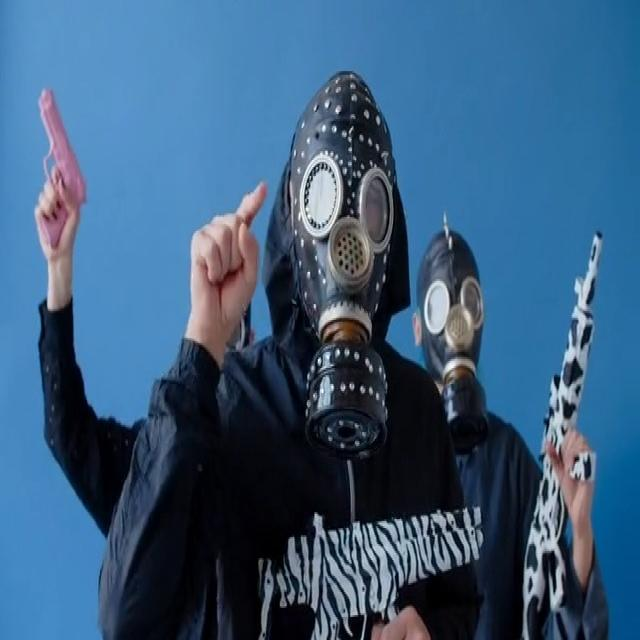Gun_Holder: (491, 195, 634, 640), (12, 74, 104, 283)
Person: (102, 27, 476, 640), (410, 190, 599, 640)
